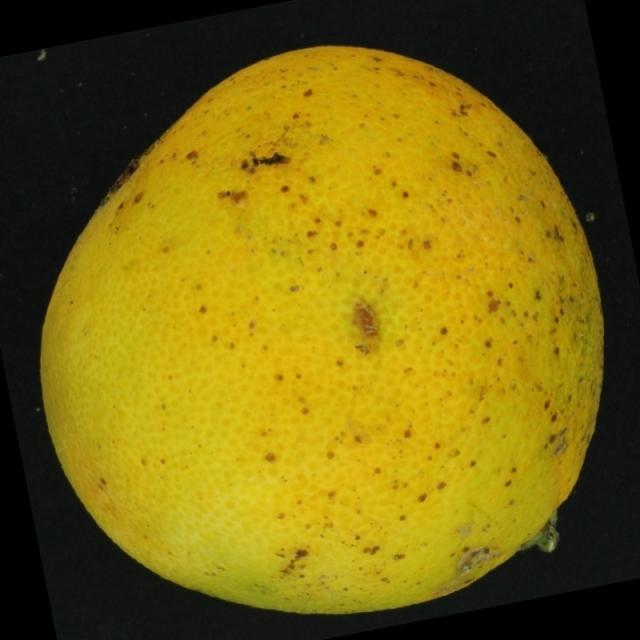grenning: (28, 28, 615, 627)
